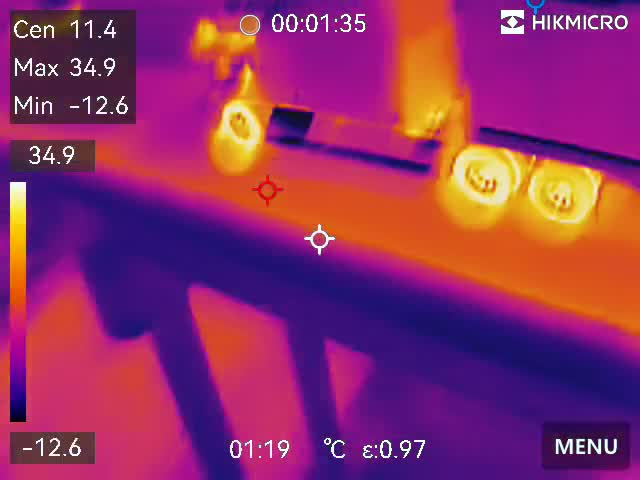heavyTruck: (214, 3, 640, 225)
